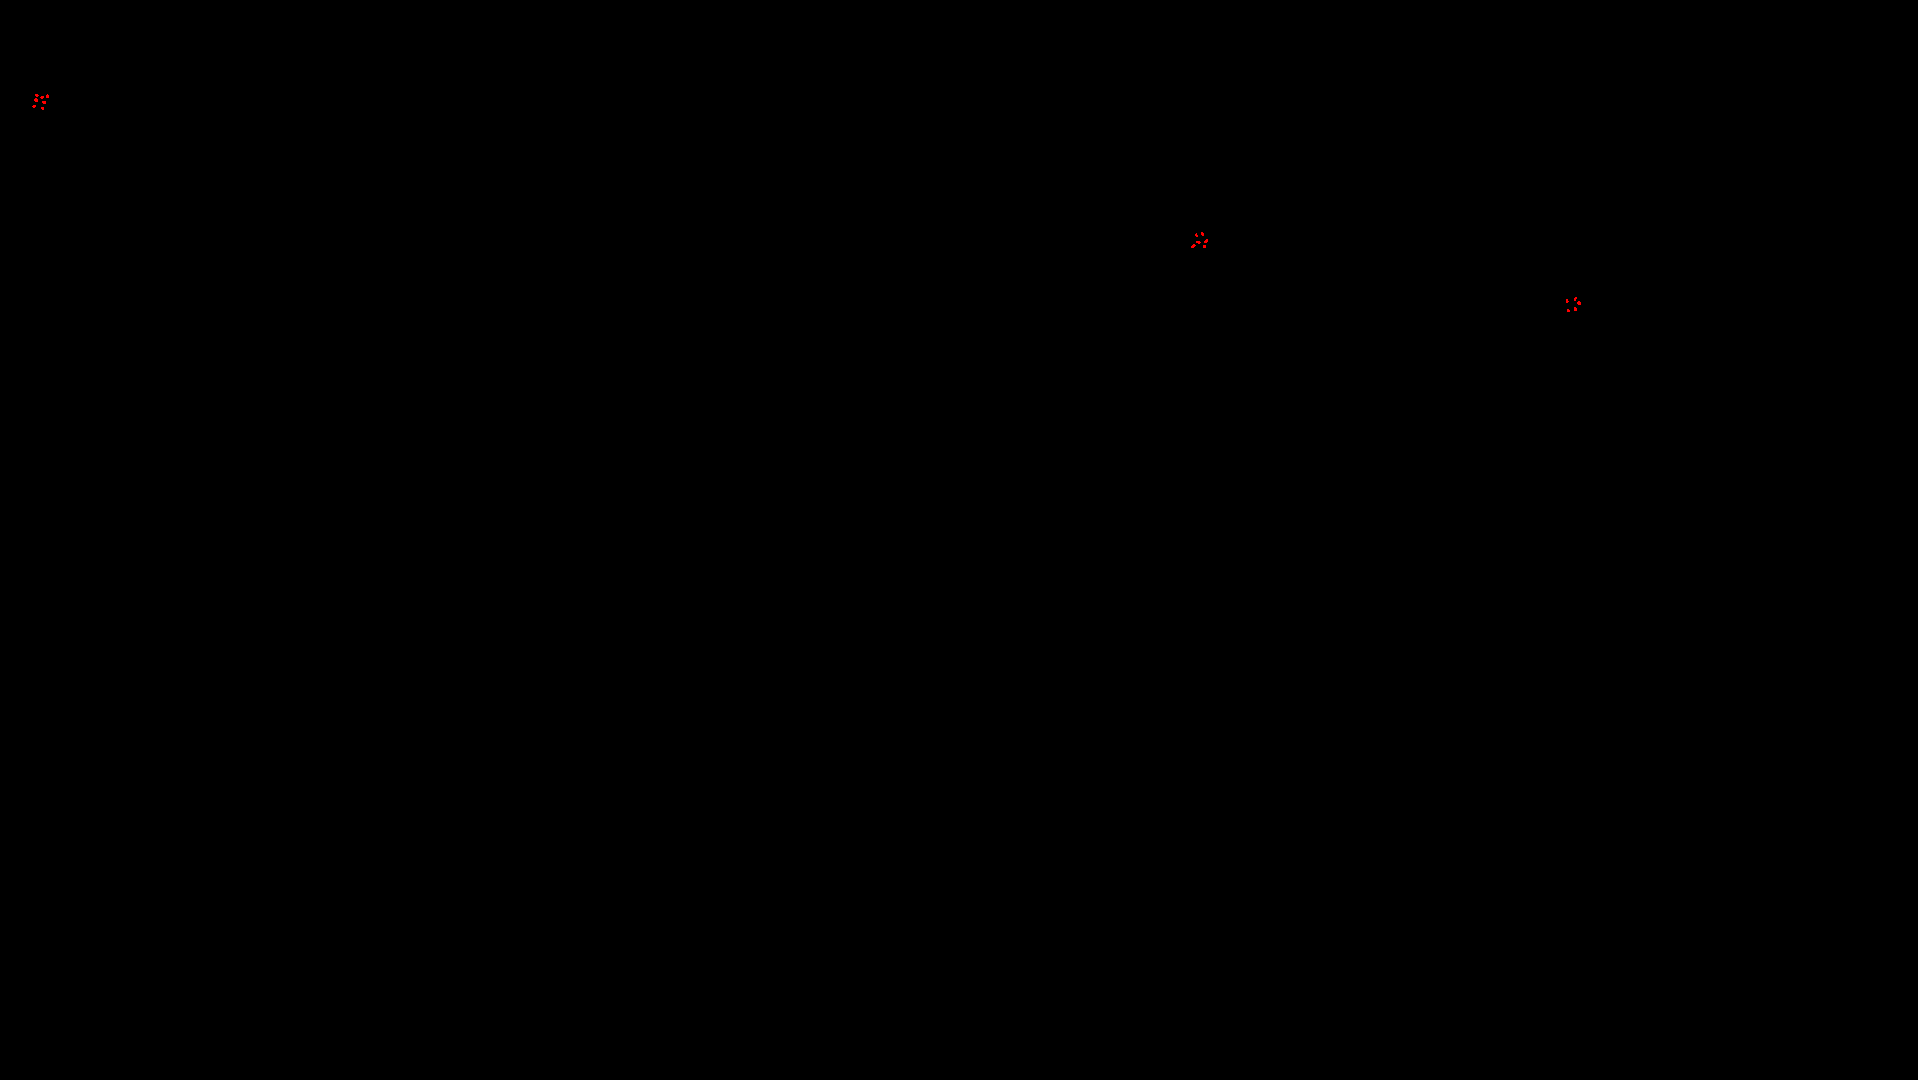Target: (1191, 244, 1196, 248), (36, 94, 40, 97), (34, 97, 38, 101), (1204, 238, 1208, 242), (1577, 302, 1581, 306), (1196, 241, 1201, 244), (46, 94, 49, 97), (40, 96, 43, 99), (42, 101, 46, 104), (32, 105, 36, 108), (41, 107, 43, 111), (1201, 232, 1204, 236), (1195, 233, 1197, 237), (1203, 245, 1207, 248), (1574, 298, 1577, 302), (1566, 299, 1569, 303), (1574, 307, 1577, 311), (1568, 310, 1570, 312)
